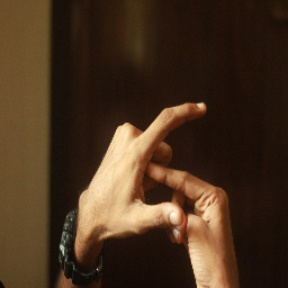E: (129, 90, 213, 241)
